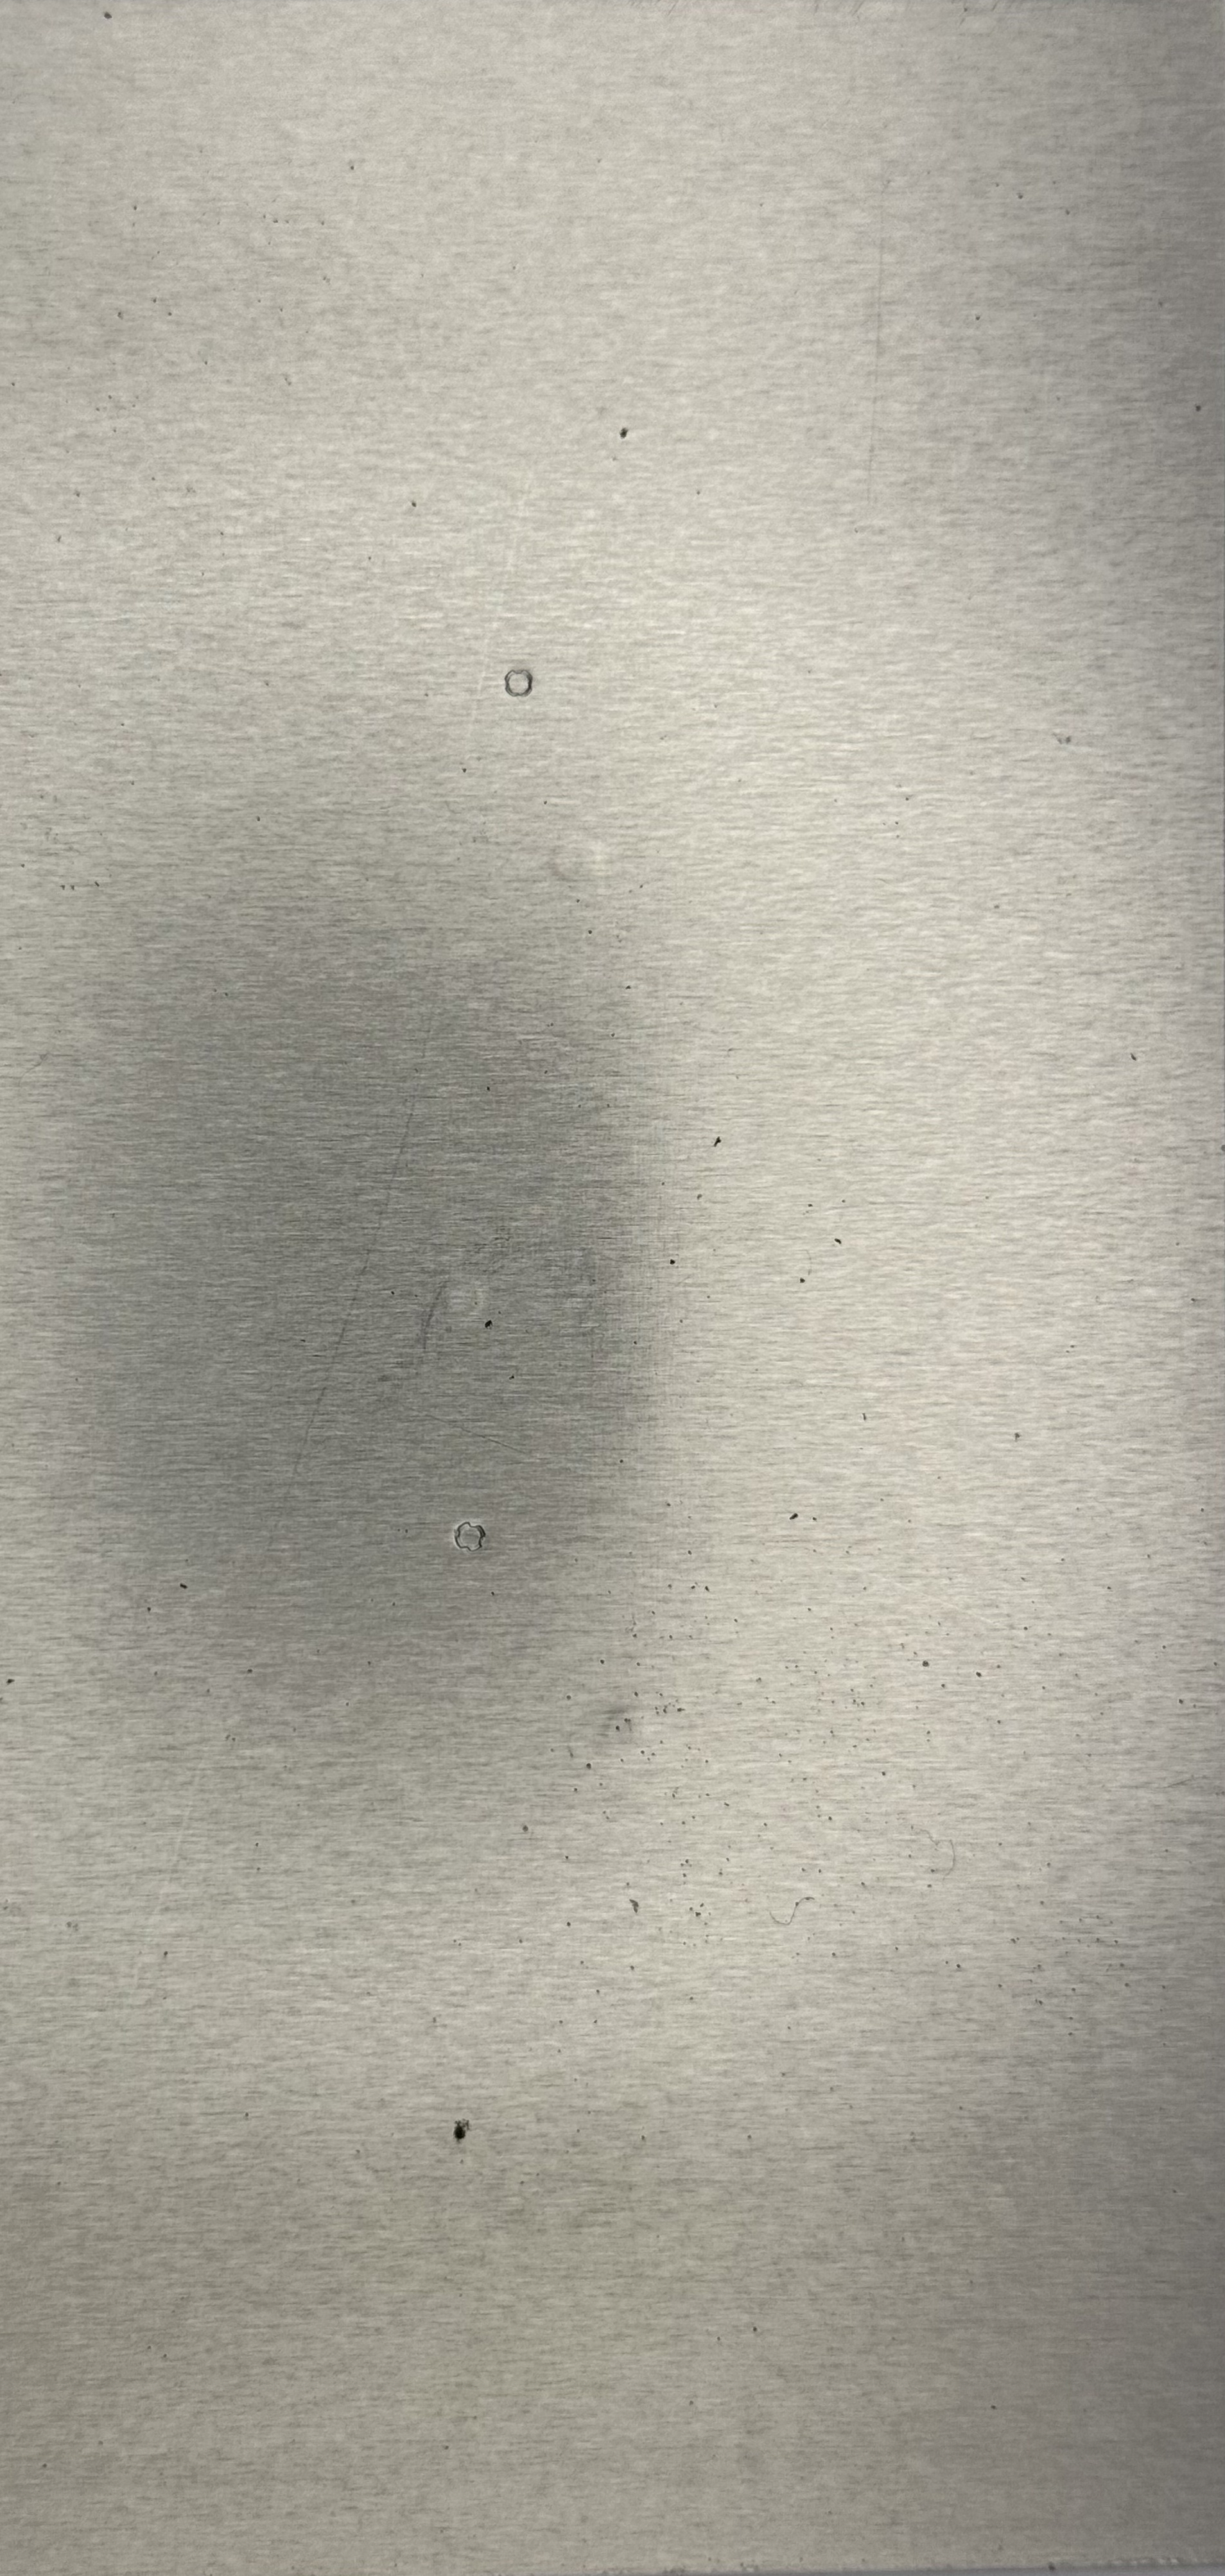Delle: (414, 1258, 507, 1337), (539, 818, 627, 894), (573, 1695, 665, 1759), (491, 654, 548, 703), (445, 1510, 498, 1561)
